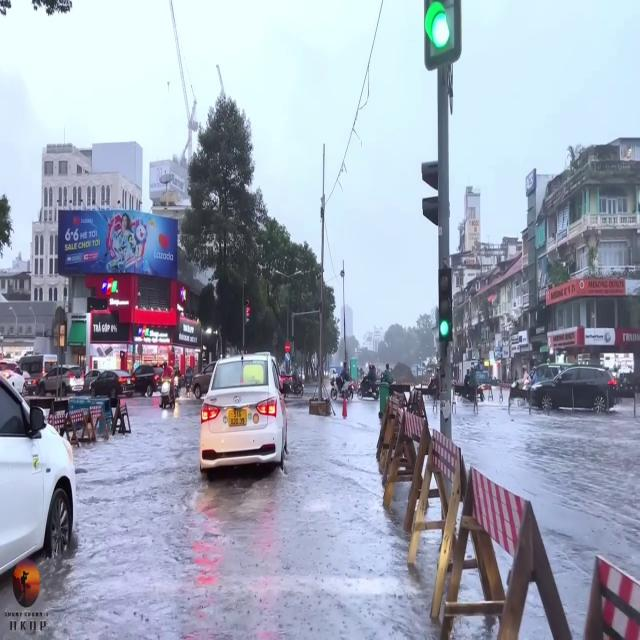bien_vang: (224, 405, 248, 429)
